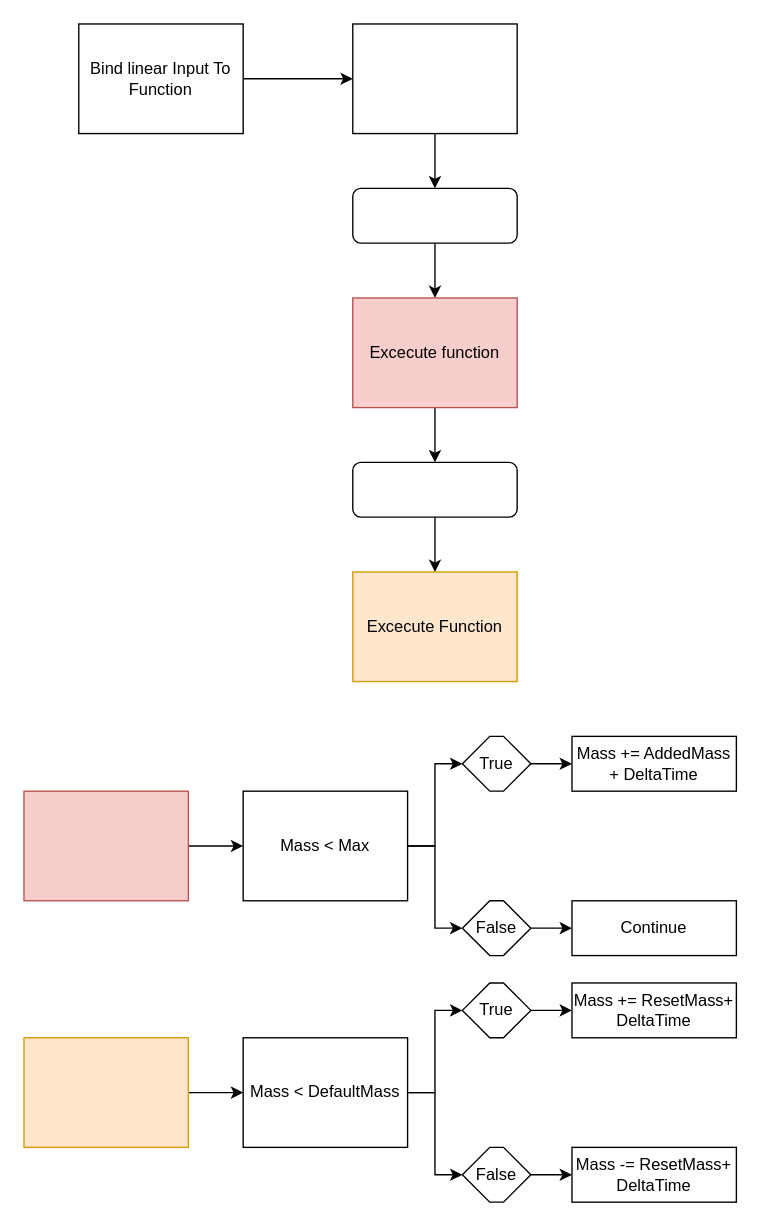
Image size: 760x1226. Some labels were removed from this diagram. The shapes that lost their labels are listed below. From the top down, each one's centre as x and y in pixels, then its label:
At [434,78]: "Excecute function when input detected".
At [434,215]: "While {Input}".
At [434,489]: "While Mass != DefaultMass".
At [105,845]: "Mass Change".
At [105,1091]: "Reset Mass".
